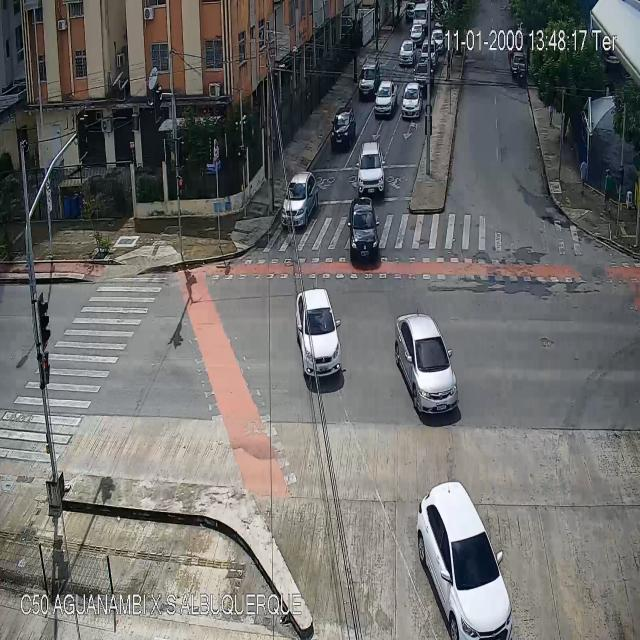Car: (418, 480, 513, 639), (395, 312, 460, 418), (295, 288, 343, 382), (349, 196, 380, 263), (282, 173, 316, 229), (356, 142, 386, 196), (331, 109, 355, 148), (358, 59, 380, 97), (374, 81, 398, 115), (402, 81, 421, 121), (398, 38, 416, 68), (414, 3, 429, 34), (417, 63, 433, 90), (420, 41, 436, 68), (512, 53, 526, 79), (431, 31, 445, 54), (408, 23, 422, 40)
Motorcycle: (516, 64, 523, 81)
